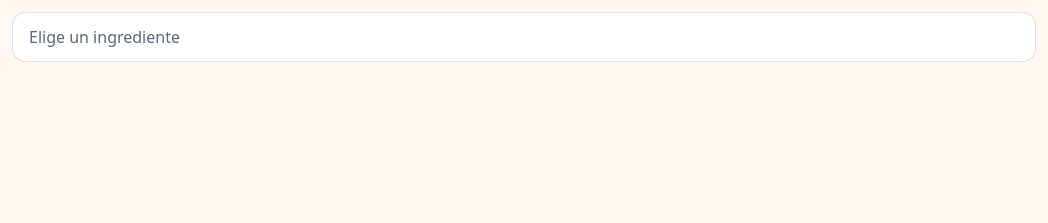
Test case: SearchableSelect › opens with every option, like a select
This screenshot has width=1048, height=223.
Focus the dropdown named "Ingrediente 1": (524, 37) [12,12,1036,62]
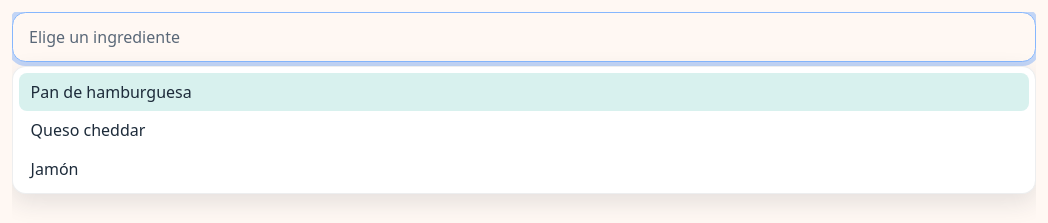
Now the dropdown named "Ingrediente 1" is expanded, box [12,12,1036,62]
